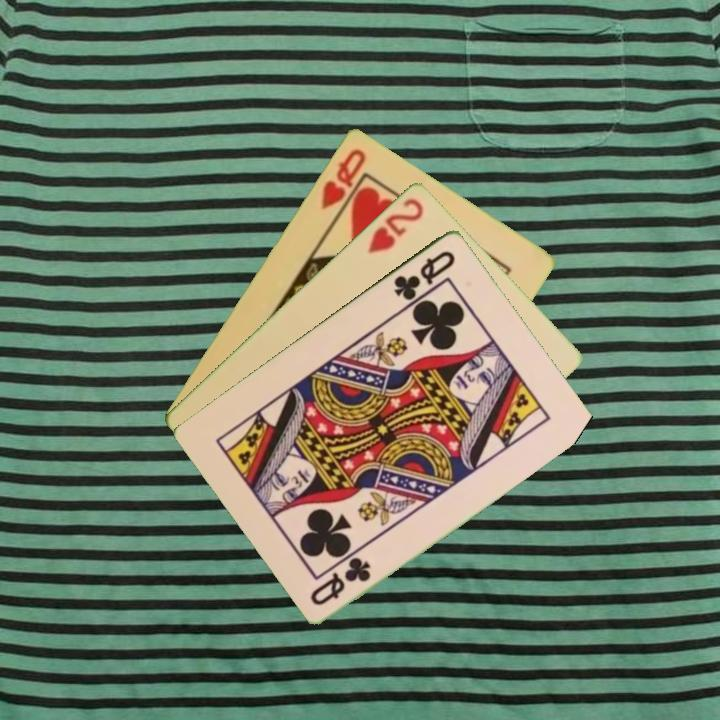2h: (364, 194, 427, 256)
Qc: (390, 246, 459, 303), (306, 553, 374, 608)
Qh: (317, 144, 369, 212)
